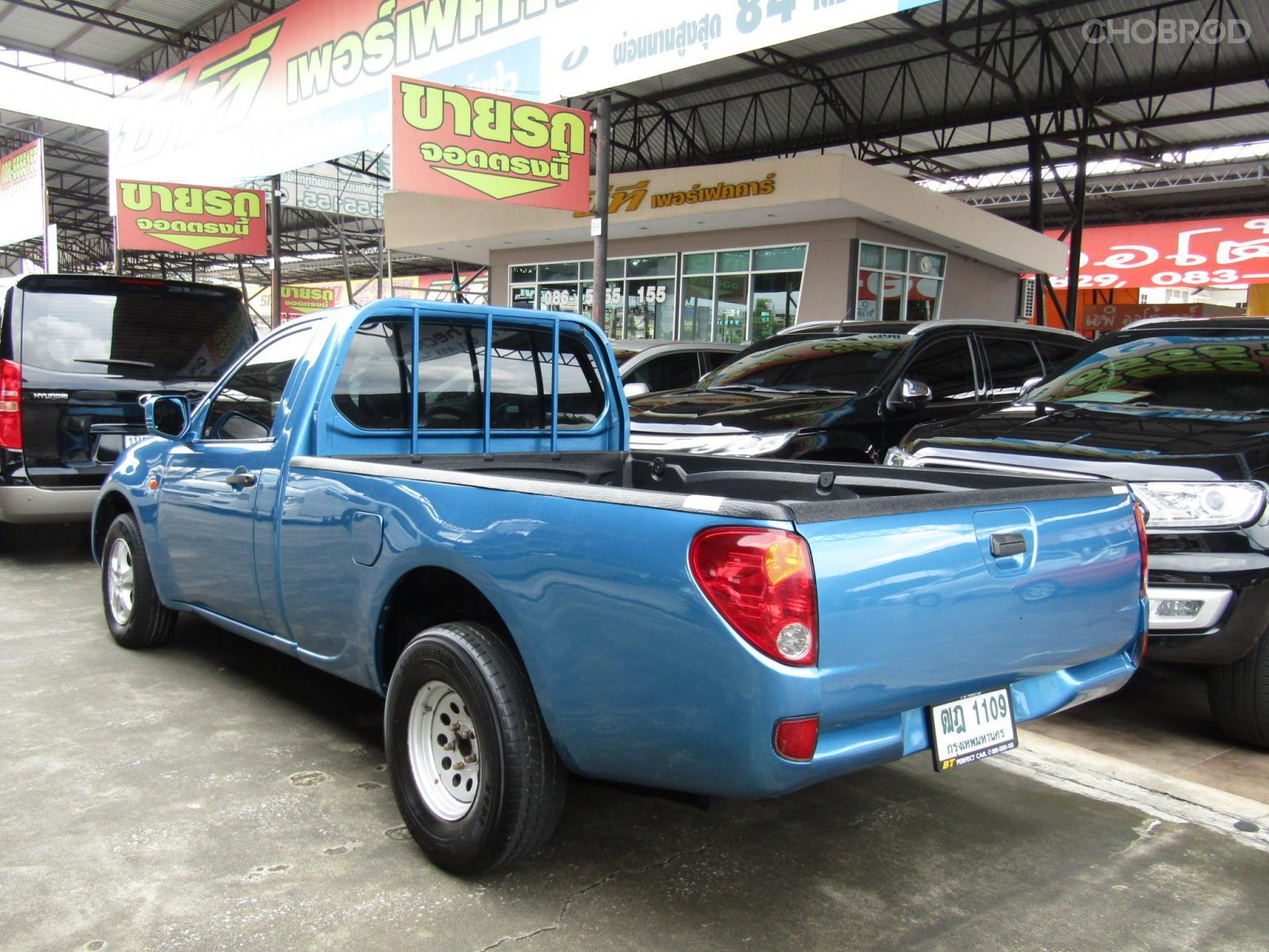license-plate: (921, 682, 1022, 777)
